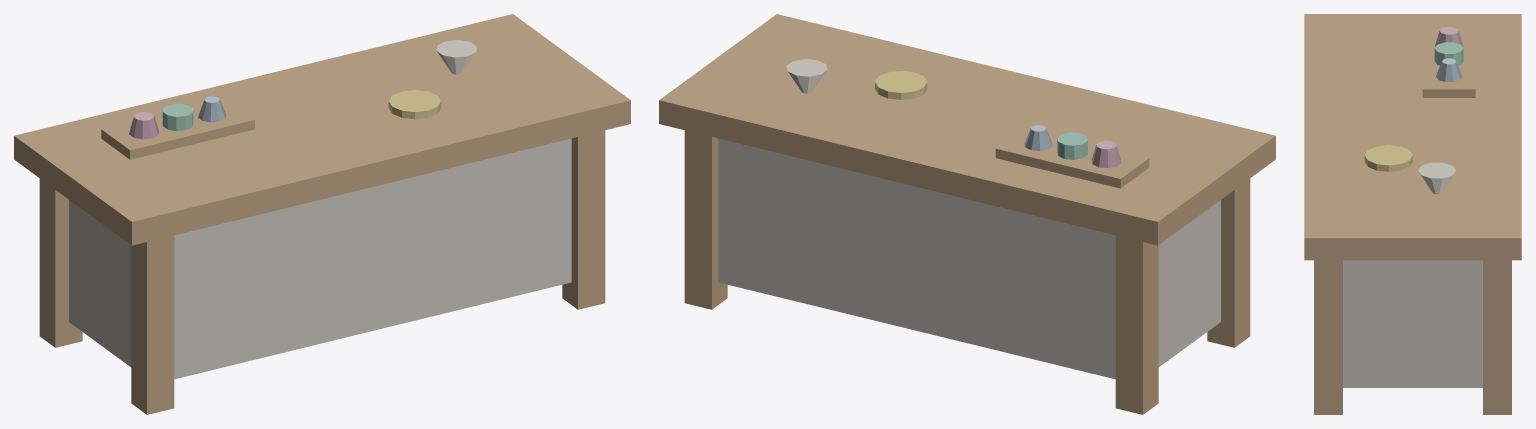
Rendered from lab_bench.glb.
The picture shows the model from 3 angles, left to right: view 1: azimuth 30°, elevation 25°; view 2: azimuth 150°, elevation 25°; view 3: azimuth 270°, elevation 25°; orthographic projection. The views are drawn at different scales.
Parts seen in each view (by area): view 1: lab_bench; view 2: lab_bench; view 3: lab_bench.
Part boxes in pixels (x1,y1,x2,y2): lab_bench: [14, 14, 630, 414]; lab_bench: [659, 14, 1275, 414]; lab_bench: [1304, 14, 1521, 414].
Size of the model in its own units: 2.2 by 0.96 by 0.9.
